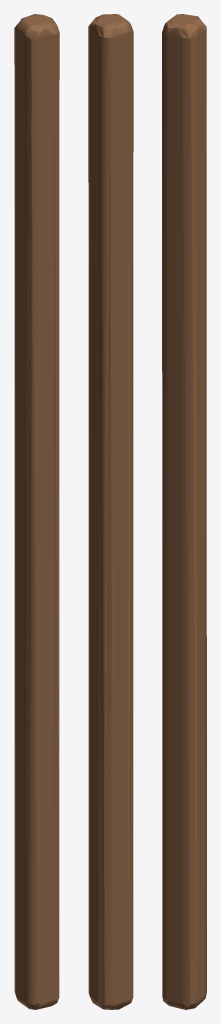
Rendered from ShopCornerPost90.glb.
The picture shows the model from 3 angles, left to right: view 1: azimuth 30°, elevation 25°; view 2: azimuth 210°, elevation 25°; view 3: azimuth 330°, elevation 25°; orthographic projection.
Visible parts, largest first — view 1: PBK_ShopCornerPost90.021; view 2: PBK_ShopCornerPost90.021; view 3: PBK_ShopCornerPost90.021.
Boxes of the visible parts, left/top/right/bottom form: PBK_ShopCornerPost90.021: left=14, top=14, right=59, bottom=1009; PBK_ShopCornerPost90.021: left=88, top=14, right=133, bottom=1009; PBK_ShopCornerPost90.021: left=162, top=14, right=206, bottom=1009.
Bounding box in the file's own units: 0.1 × 2.84 × 0.1.
